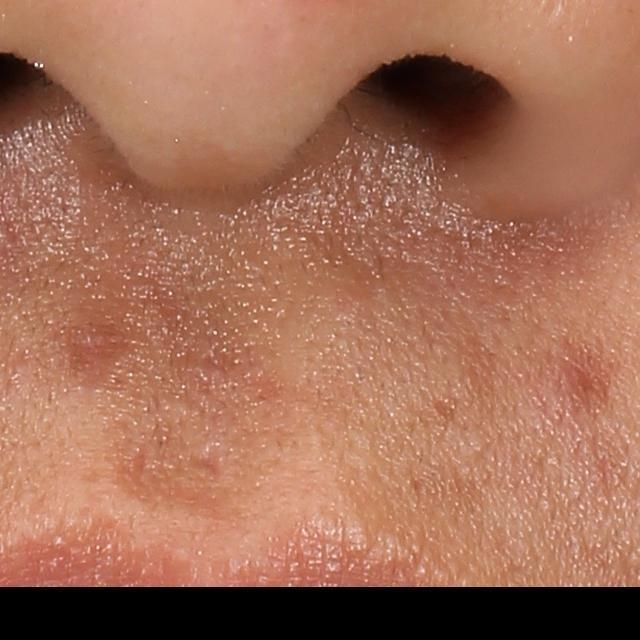atrophic_scar: (65, 319, 144, 396), (183, 445, 221, 478)
